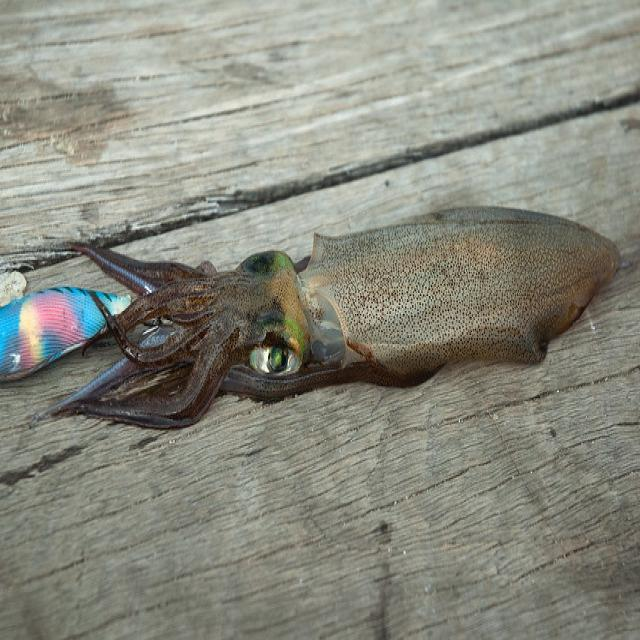SQUID: (41, 188, 629, 446)
